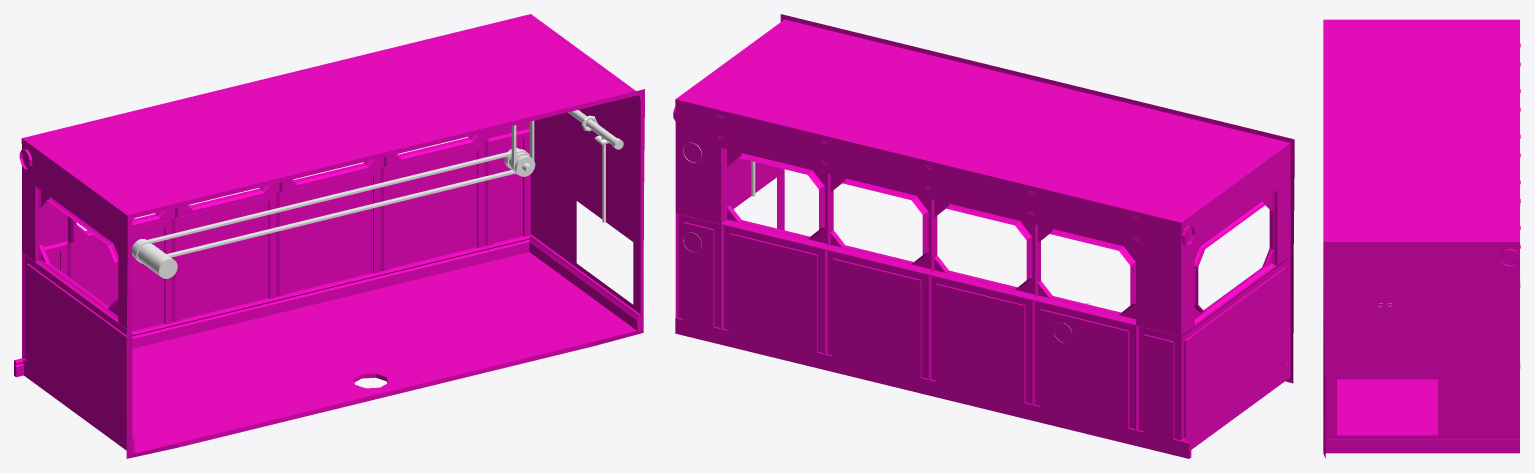
The model's file is DiningRoom3.fbx.
3 views of the same model, side by side, from view 1: azimuth 30°, elevation 25°; view 2: azimuth 150°, elevation 25°; view 3: azimuth 270°, elevation 25° (orthographic). The views are drawn at different scales.
Parts seen in each view (by area): view 1: DiningRoom, Contraption; view 2: DiningRoom; view 3: DiningRoom.
Boxes of the visible parts, x1,y1,x2,y2 form: DiningRoom: (14, 14, 644, 458); Contraption: (131, 110, 623, 278); DiningRoom: (673, 14, 1294, 458); DiningRoom: (1323, 19, 1520, 458).
Size of the model in its own units: 2740 by 1230 by 1005.
